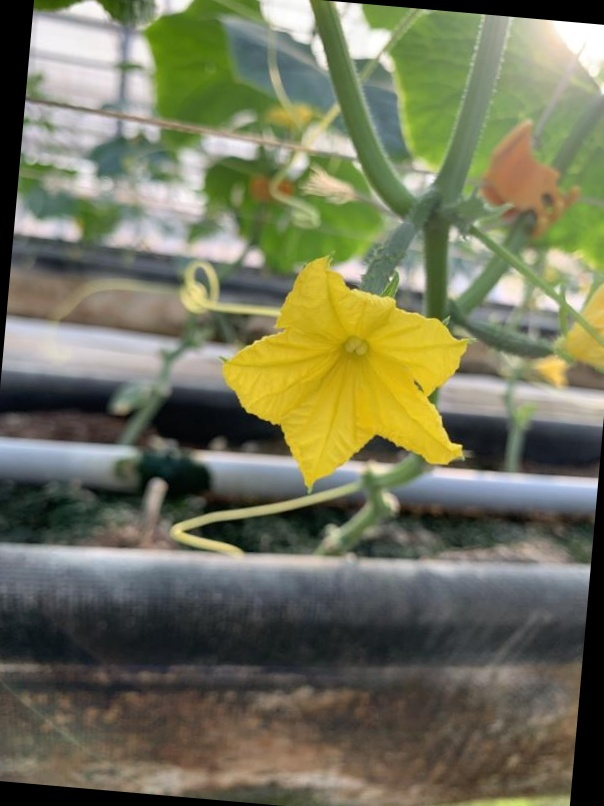flowering: (212, 206, 506, 500)
mature: (213, 205, 504, 501)
